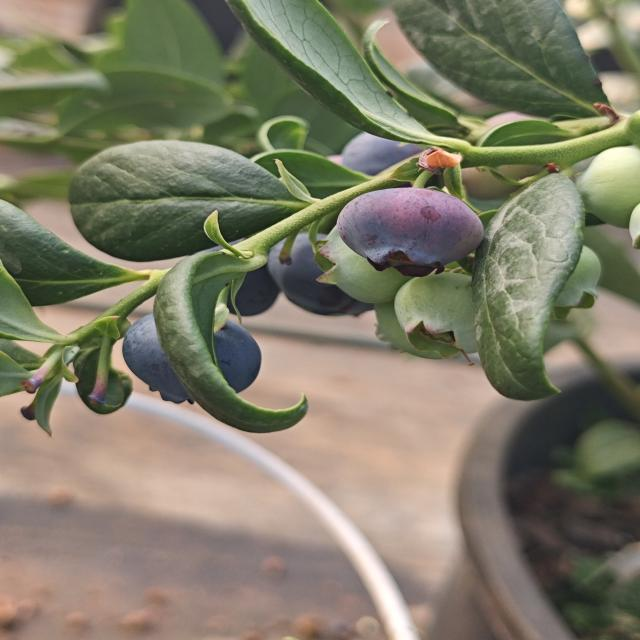ripe: (326, 182, 494, 271), (127, 307, 267, 400), (266, 242, 359, 313), (346, 130, 411, 166)
